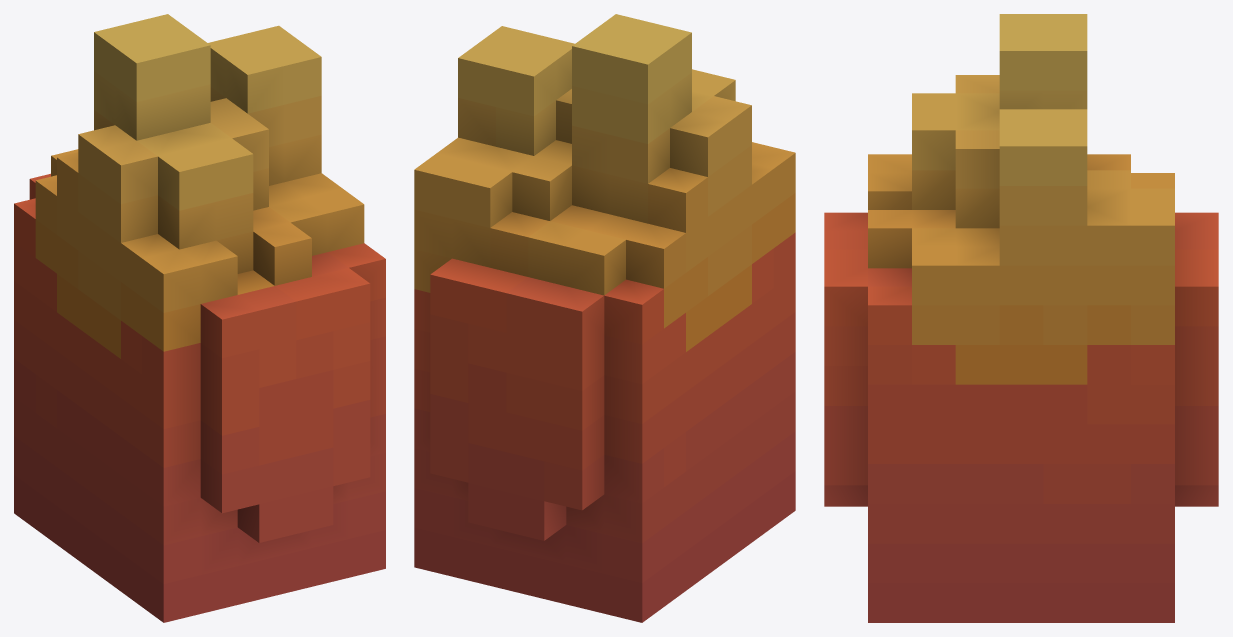
Rendered from fries.glb.
3 views of the same model, side by side, from view 1: azimuth 30°, elevation 25°; view 2: azimuth 150°, elevation 25°; view 3: azimuth 270°, elevation 25° (orthographic). The views are drawn at different scales.
Visible parts, largest first — view 1: voxels; view 2: voxels; view 3: voxels.
Part boxes in pixels (<box>): voxels: <box>14,14,385,622</box>; voxels: <box>414,14,795,622</box>; voxels: <box>824,14,1218,622</box>.
Bounding box in the file's own units: 0.1988 × 0.4309 × 0.2983.
